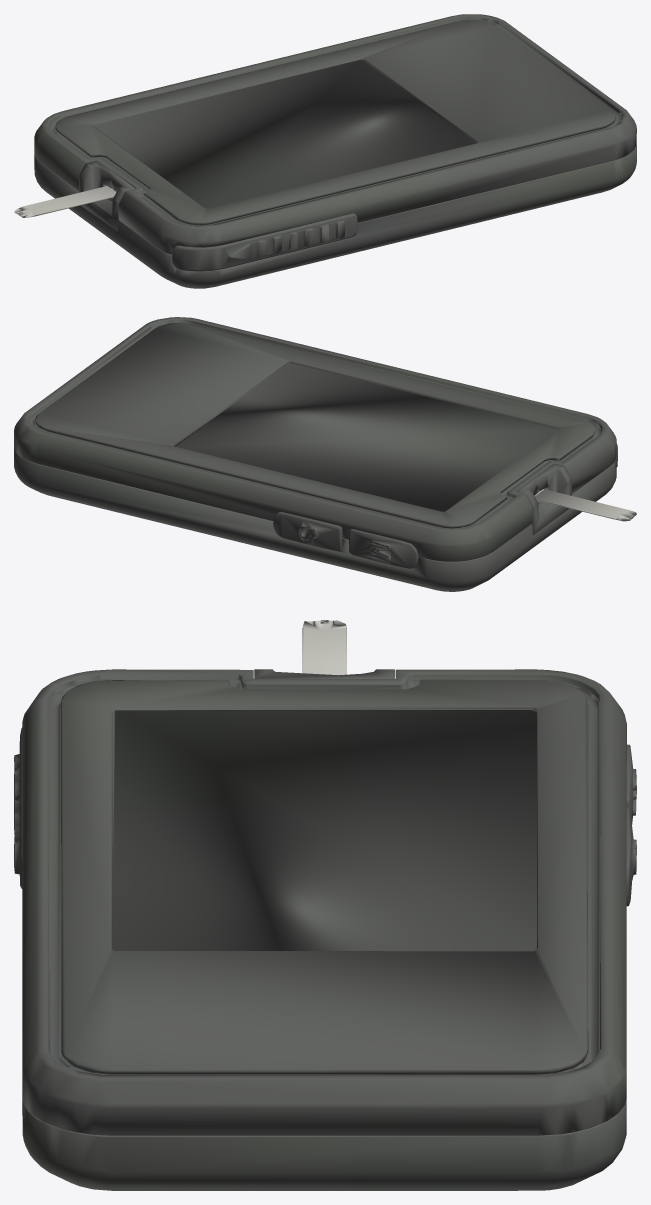
The model's file is blood_glucosemeter_a01.glb.
3 renders of one model, top to bottom at view 1: azimuth 30°, elevation 25°; view 2: azimuth 150°, elevation 25°; view 3: azimuth 270°, elevation 25°, orthographic. The views are drawn at different scales.
Visible parts, largest first — view 1: part1, part0; view 2: part1, part0; view 3: part1, part0.
Part boxes in pixels (bbox=[...]): part1: bbox=[34, 14, 636, 288]; part0: bbox=[14, 186, 116, 217]; part1: bbox=[14, 317, 617, 591]; part0: bbox=[535, 489, 636, 521]; part1: bbox=[14, 669, 636, 1190]; part0: bbox=[302, 620, 346, 675].
Bounding box in the file's own units: 0.2226 × 0.026 × 0.1182.
Materials: 2 (2 with a texture image).
